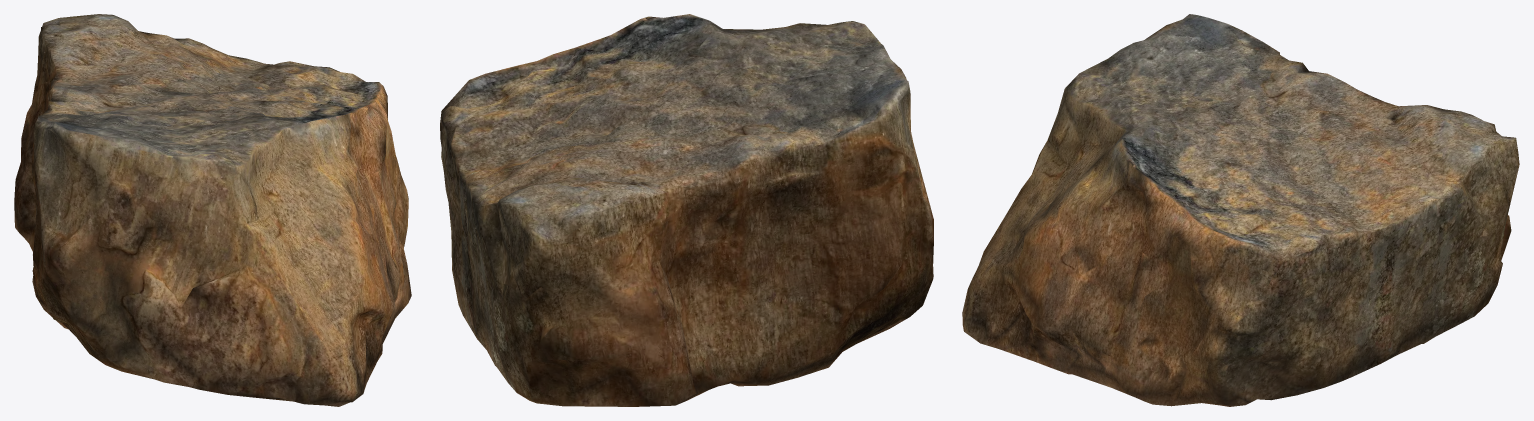
Rendered from boulder_b.glb.
The picture shows the model from 3 angles, left to right: view 1: azimuth 30°, elevation 25°; view 2: azimuth 150°, elevation 25°; view 3: azimuth 270°, elevation 25°; orthographic projection. The views are drawn at different scales.
Parts seen in each view (by area): view 1: boulder_03_LOD0; view 2: boulder_03_LOD0; view 3: boulder_03_LOD0.
Part boxes in pixels (left/top/right/bottom): boulder_03_LOD0: left=14, top=14, right=411, bottom=406; boulder_03_LOD0: left=440, top=14, right=933, bottom=406; boulder_03_LOD0: left=962, top=14, right=1519, bottom=406.
Bounding box in the file's own units: 2.4 × 1.47 × 3.06.
1 material, 1 textured.
